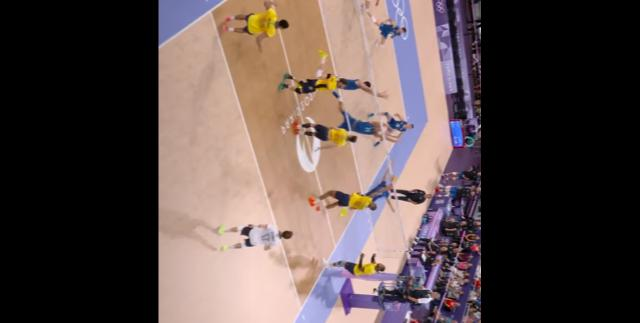Levantador: (268, 75, 348, 90)
Libero: (221, 222, 292, 258), (356, 0, 388, 11)
bola: (389, 174, 396, 184)
